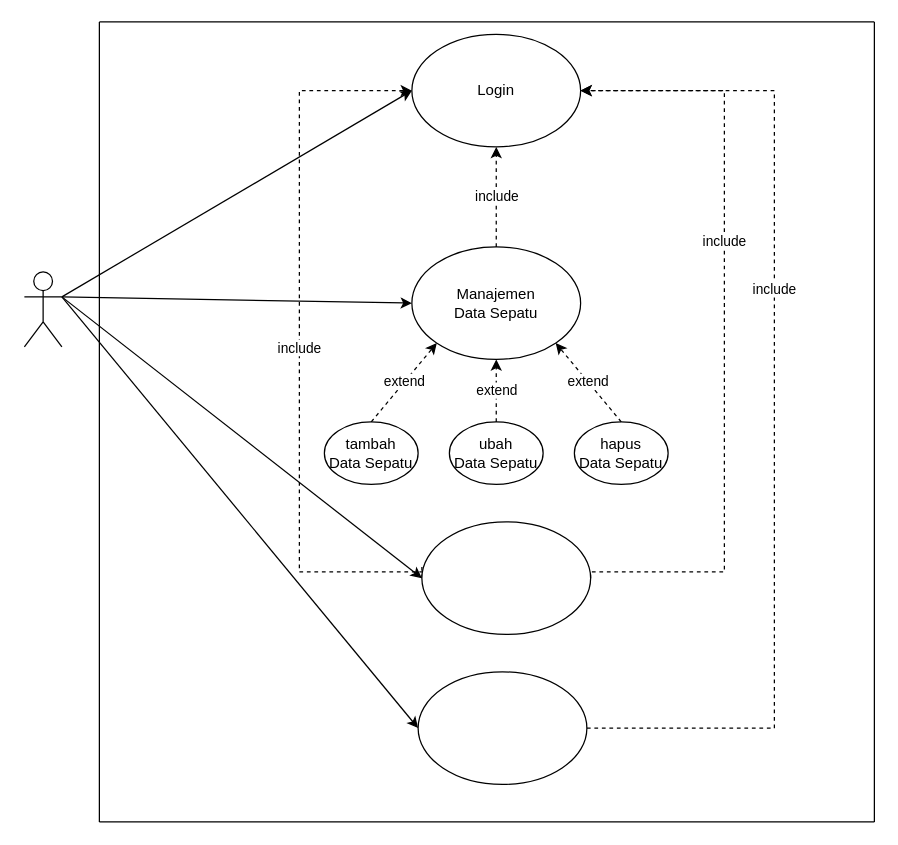
Some shapes in this 898 by 845 pixel diagram are drawn without their labels. The box of each missing label's shape, as (x1, y1, x2, y2) in pixels:
Admin: (23, 271, 62, 347)
Lihat Data Sepatu: (421, 521, 591, 634)
Logout: (417, 671, 587, 784)
